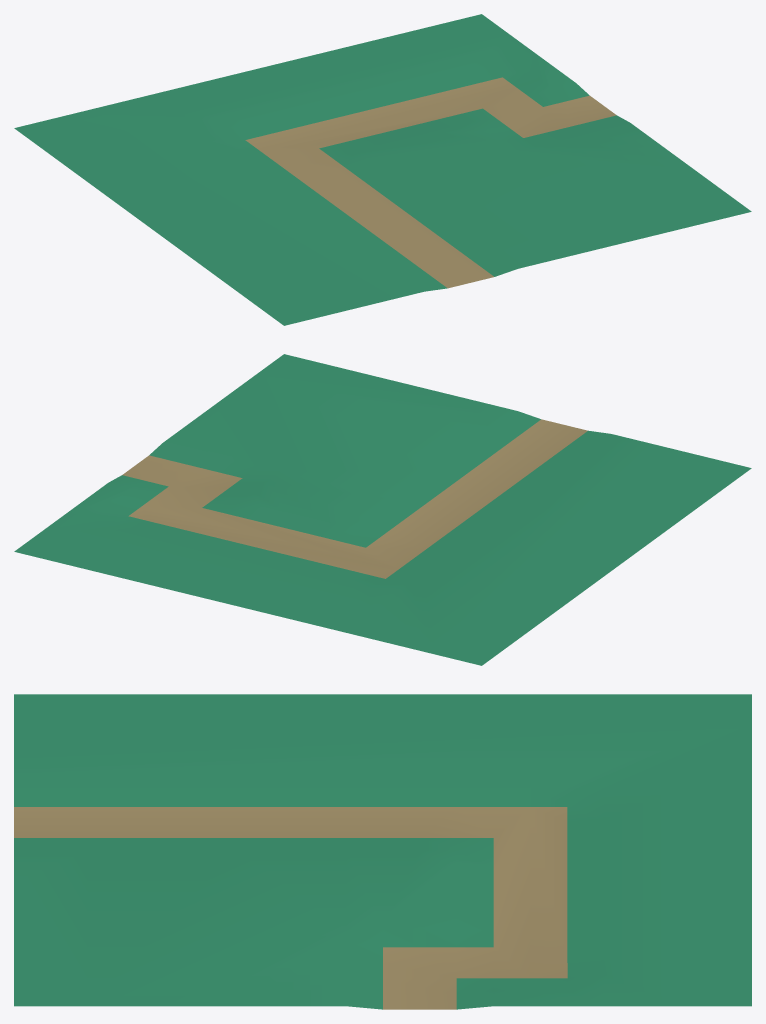
The model's file is park_ground_nw.glb.
The picture shows the model from 3 angles, top to bottom: view 1: azimuth 30°, elevation 25°; view 2: azimuth 150°, elevation 25°; view 3: azimuth 270°, elevation 25°; orthographic projection. The views are drawn at different scales.
Parts seen in each view (by area): view 1: park_ground_nw; view 2: park_ground_nw; view 3: park_ground_nw.
Boxes of the visible parts, box(x1,y1,x2,y2) form: park_ground_nw: box(14, 14, 751, 325); park_ground_nw: box(14, 354, 751, 665); park_ground_nw: box(14, 694, 751, 1009).
Bounding box in the file's own units: 40 × 0.2 × 40.
Materials: 1 (1 with a texture image).
